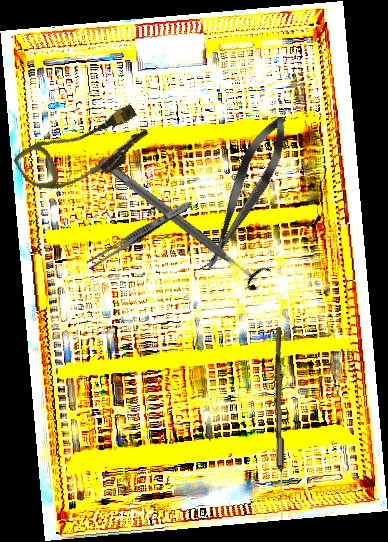Cannula: (11, 89, 156, 213)
Dressing Forceps: (83, 197, 195, 273)
Fixation Ring: (90, 147, 273, 295)
Micro Scissor: (192, 110, 297, 278)
Surgical Spoon: (271, 326, 288, 521)
